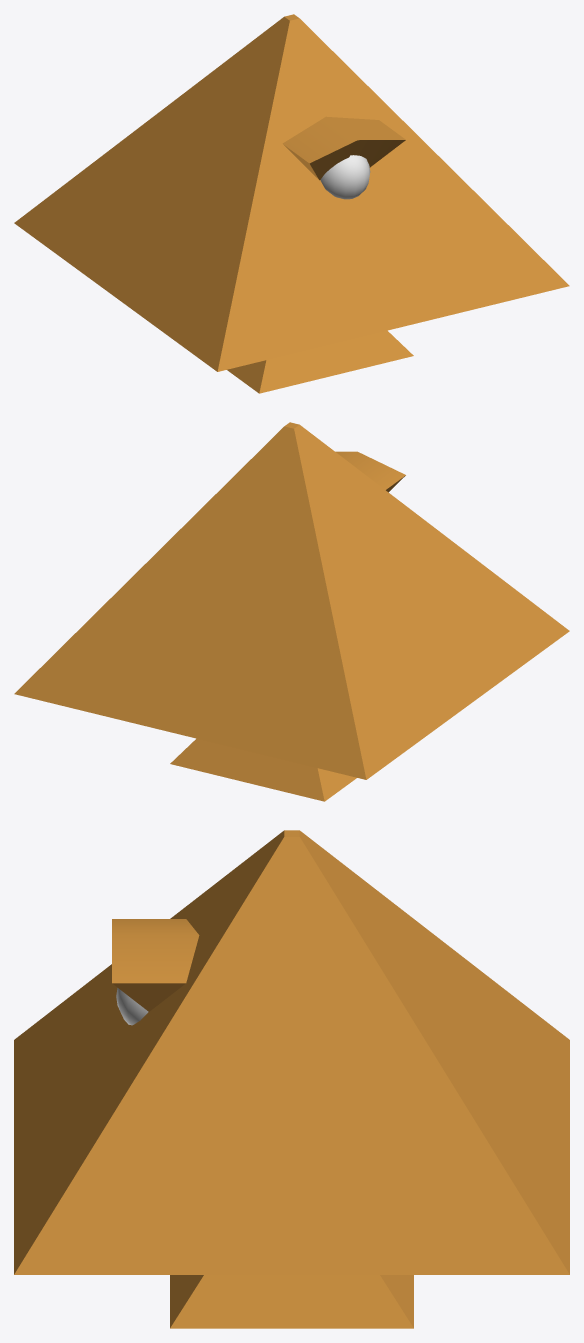
File: pyrotte.glb
3 renders of one model, top to bottom at view 1: azimuth 30°, elevation 25°; view 2: azimuth 150°, elevation 25°; view 3: azimuth 270°, elevation 25°, orthographic. The views are drawn at different scales.
Visible parts, largest first — view 1: Cube; view 2: Cube; view 3: Cube.
Part boxes in pixels (left/top/right/bottom): Cube: left=14, top=14, right=569, bottom=393; Cube: left=14, top=422, right=569, bottom=801; Cube: left=14, top=830, right=569, bottom=1328.
Size of the model in its own units: 2 by 1.76 by 2.
